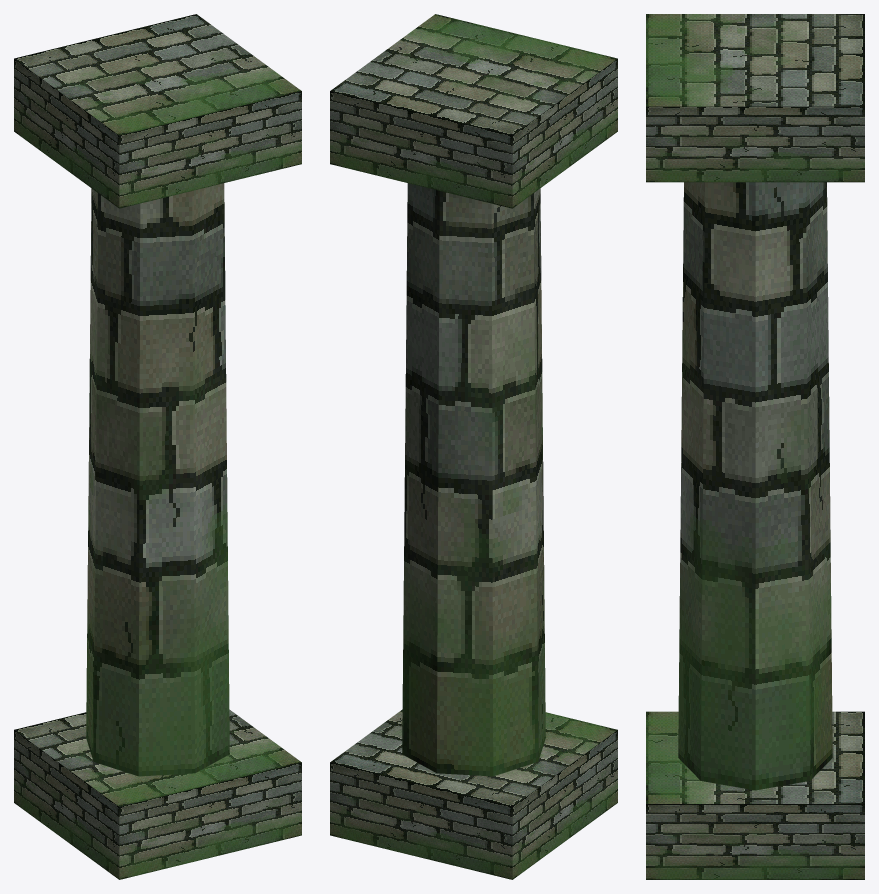
The model's file is pilar_de_musgosa.glb.
3 renders of one model, left to right at view 1: azimuth 30°, elevation 25°; view 2: azimuth 150°, elevation 25°; view 3: azimuth 270°, elevation 25°, orthographic. The views are drawn at different scales.
Visible parts, largest first — view 1: pilar_de_musgosa; view 2: pilar_de_musgosa; view 3: pilar_de_musgosa.
Part boxes in pixels (<box>): pilar_de_musgosa: <box>14,14,301,879</box>; pilar_de_musgosa: <box>330,14,617,879</box>; pilar_de_musgosa: <box>646,14,864,879</box>.
Size of the model in its own units: 0.68 by 2.65 by 0.68.
Materials: 1 (1 with a texture image).
